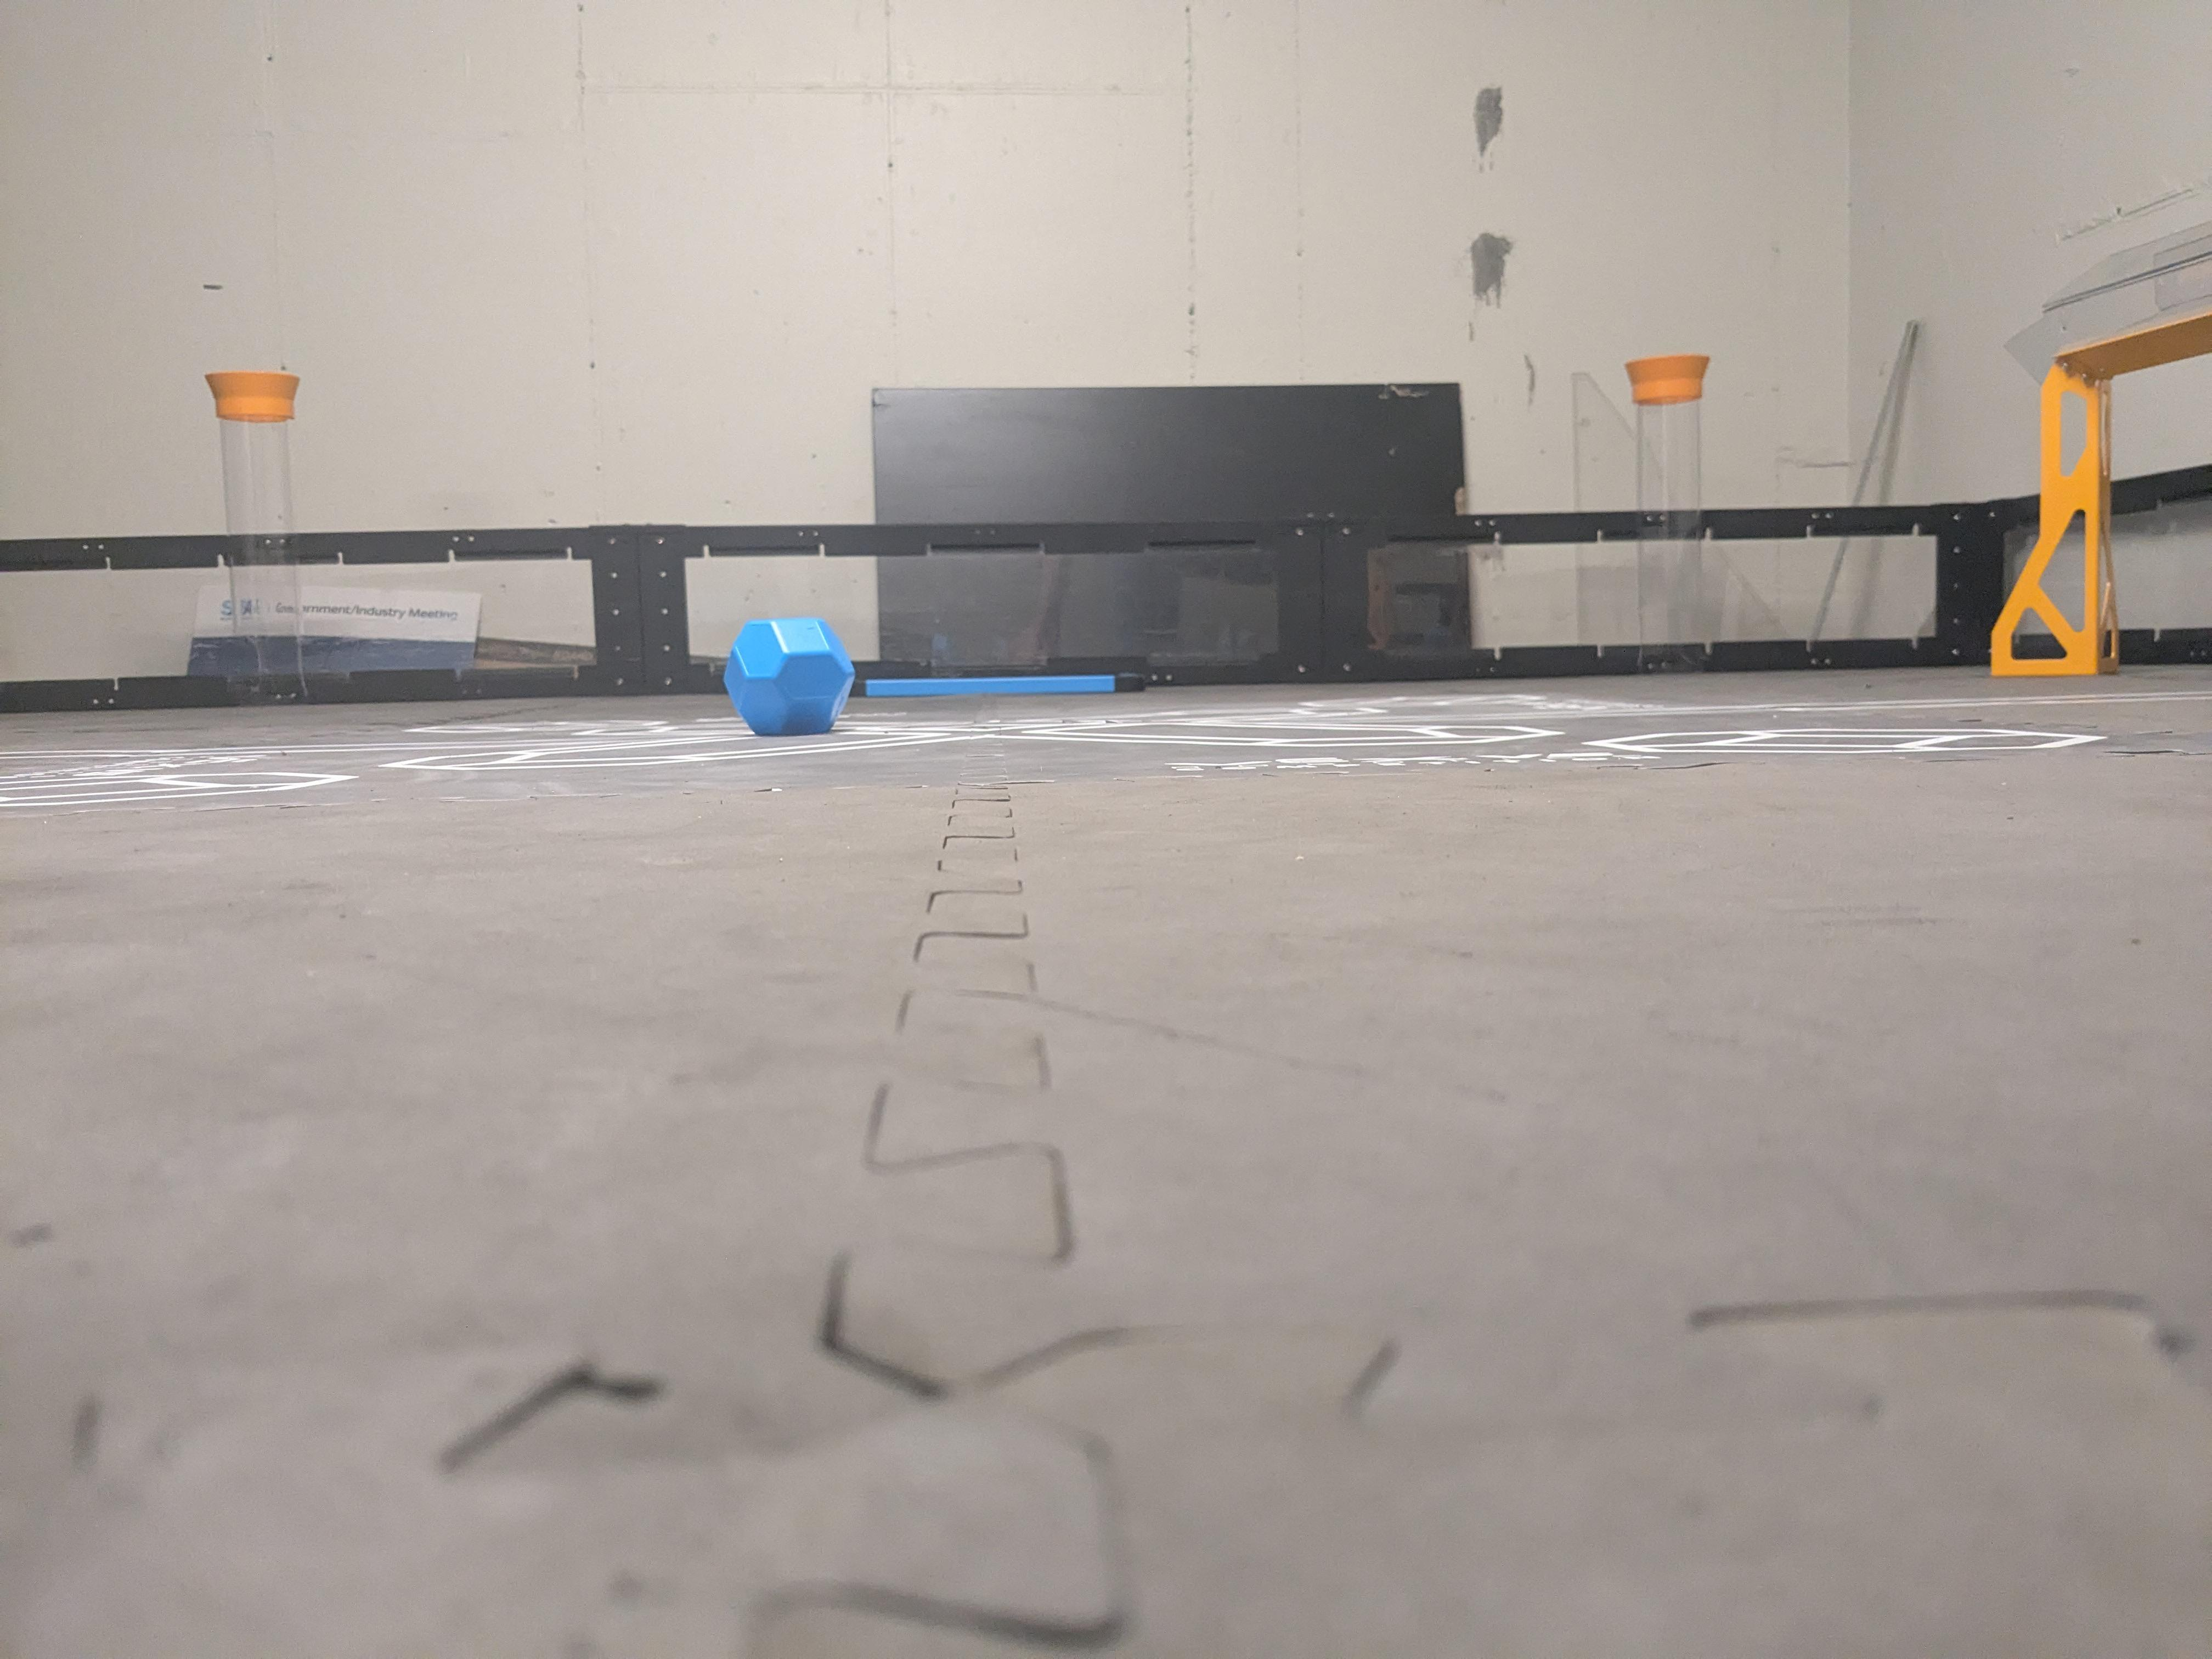Vex-Pieces-BLUE: (725, 617, 853, 734)
